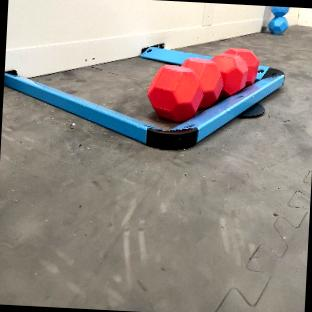V5_BLUE: (268, 6, 288, 33)
V5_RED: (146, 48, 256, 122)
